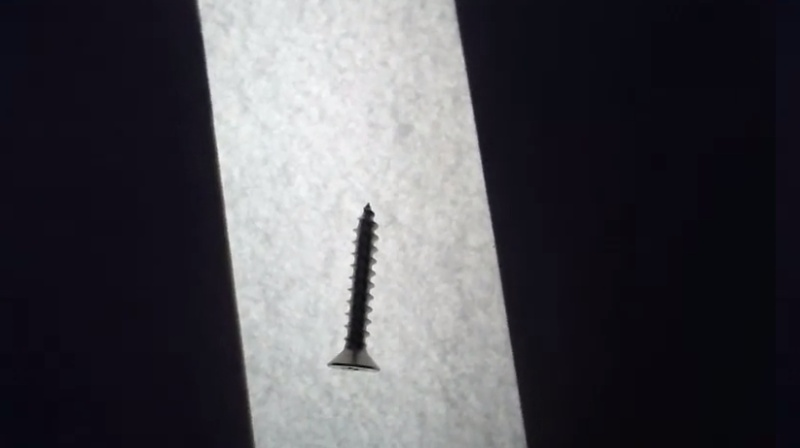S001: (322, 197, 388, 380)
